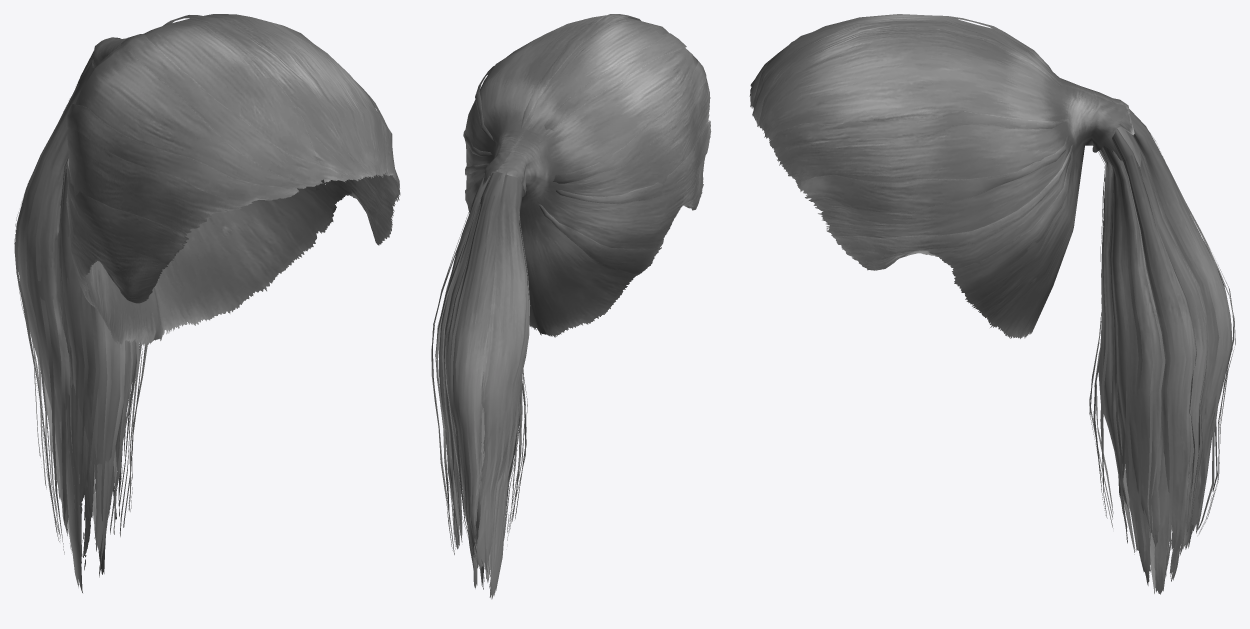
Rendered from ponytail01.glb.
3 renders of one model, left to right at view 1: azimuth 30°, elevation 25°; view 2: azimuth 150°, elevation 25°; view 3: azimuth 270°, elevation 25°, orthographic. The views are drawn at different scales.
Parts seen in each view (by area): view 1: editor_ponytail01; view 2: editor_ponytail01; view 3: editor_ponytail01.
Part boxes in pixels (x1,y1,x2,y2): editor_ponytail01: (14, 14, 400, 592); editor_ponytail01: (431, 14, 711, 599); editor_ponytail01: (749, 14, 1235, 594).
Size of the model in its own units: 0.1546 by 0.3794 by 0.2819.
1 material, 1 textured.
